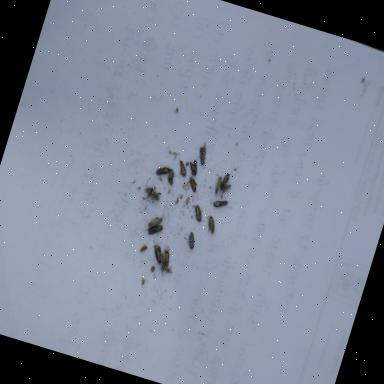pbw: (146, 238, 166, 268), (144, 210, 167, 233), (200, 213, 218, 237), (154, 252, 170, 278), (194, 140, 210, 166), (142, 220, 164, 238), (158, 248, 174, 272), (172, 156, 190, 177), (182, 231, 198, 254), (186, 155, 200, 177), (152, 161, 170, 178), (162, 165, 177, 185), (190, 204, 206, 222), (184, 174, 200, 192), (212, 196, 231, 211), (219, 172, 231, 190), (218, 181, 232, 196), (213, 174, 223, 194), (138, 243, 148, 253)
